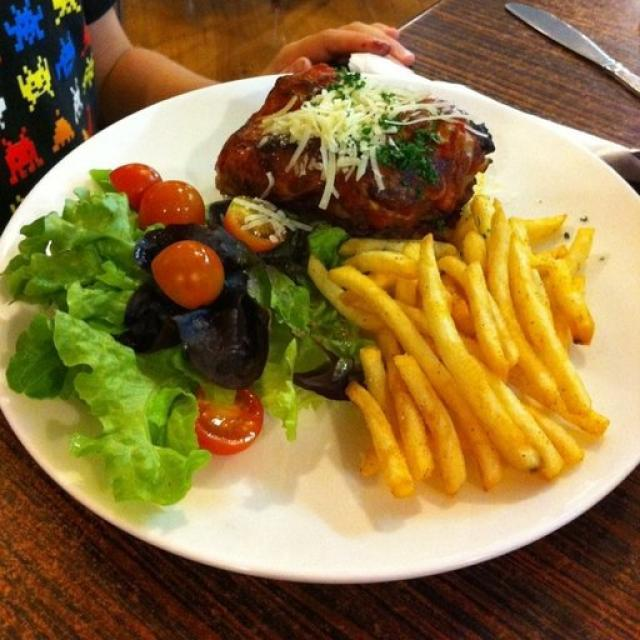Lasagna: (215, 50, 490, 206)
